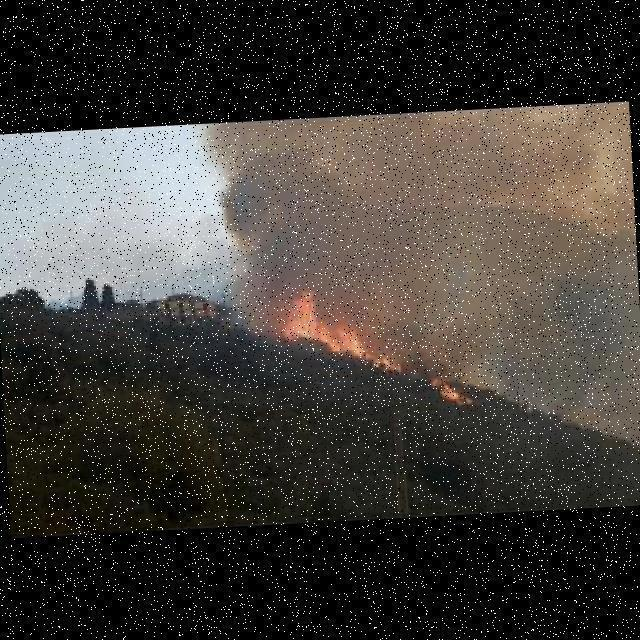Fire: (278, 276, 402, 380), (431, 374, 474, 404)
Smoke: (188, 103, 612, 411)
